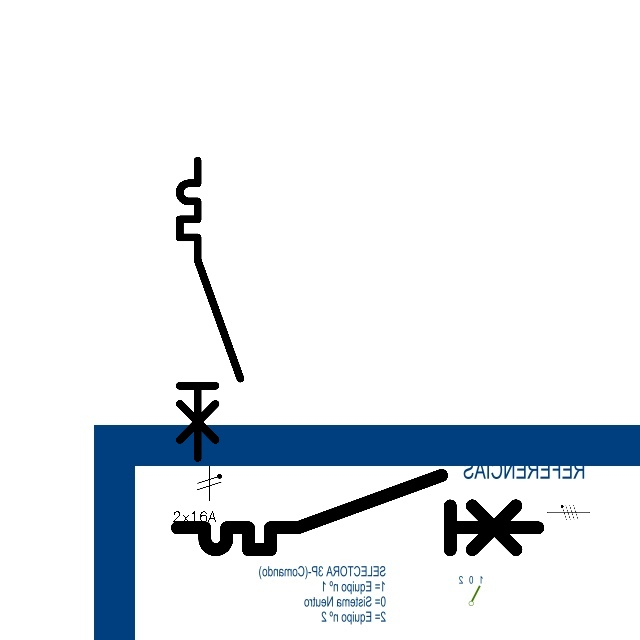interruptor_termomagnetico: (168, 466, 547, 559), (172, 153, 248, 465)
